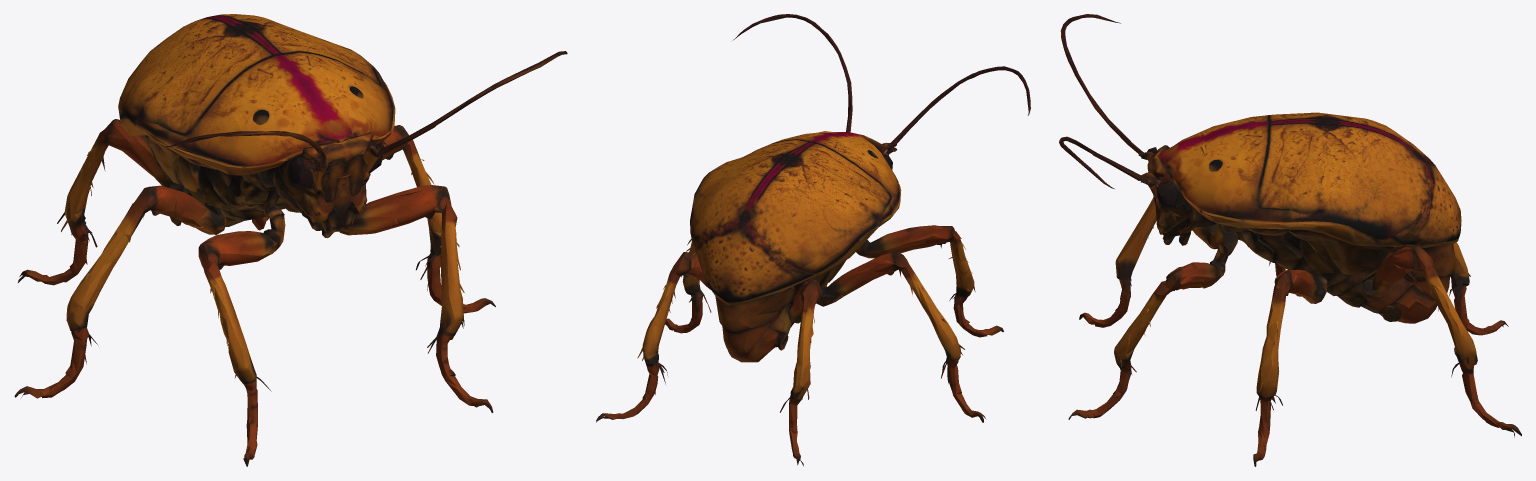
The model's file is sludge_roach.glb.
The picture shows the model from 3 angles, left to right: view 1: azimuth 30°, elevation 25°; view 2: azimuth 150°, elevation 25°; view 3: azimuth 270°, elevation 25°; orthographic projection. The views are drawn at different scales.
Size of the model in its own units: 1.85 by 1.34 by 1.9.
1 material, 1 textured.
